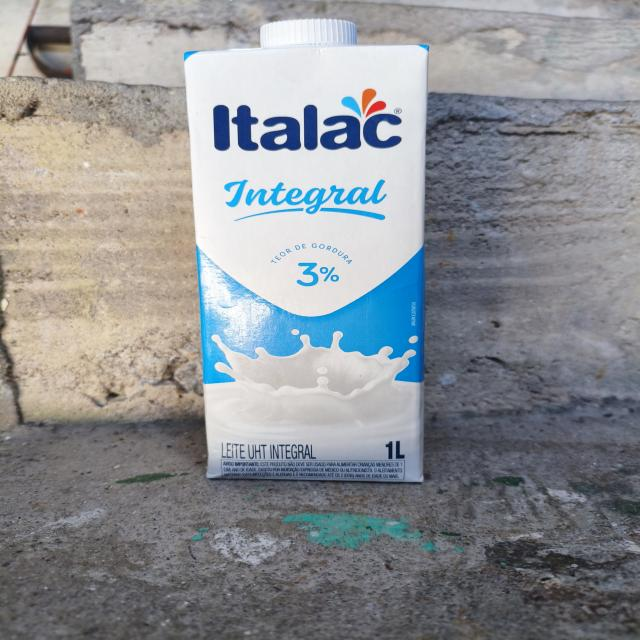Caixa de Leite: (174, 14, 436, 486)
